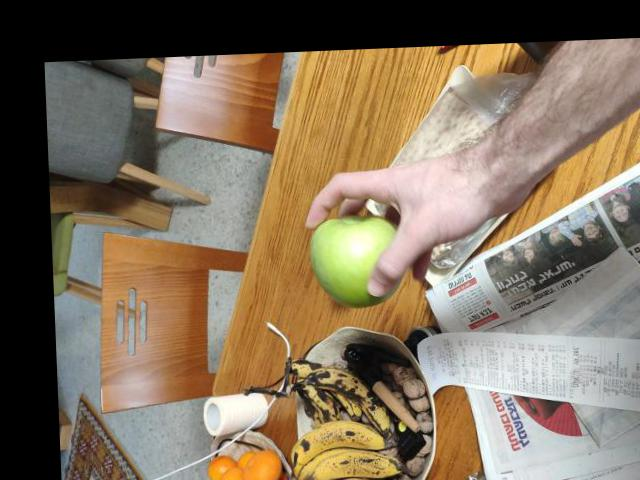apple: (303, 212, 416, 305)
